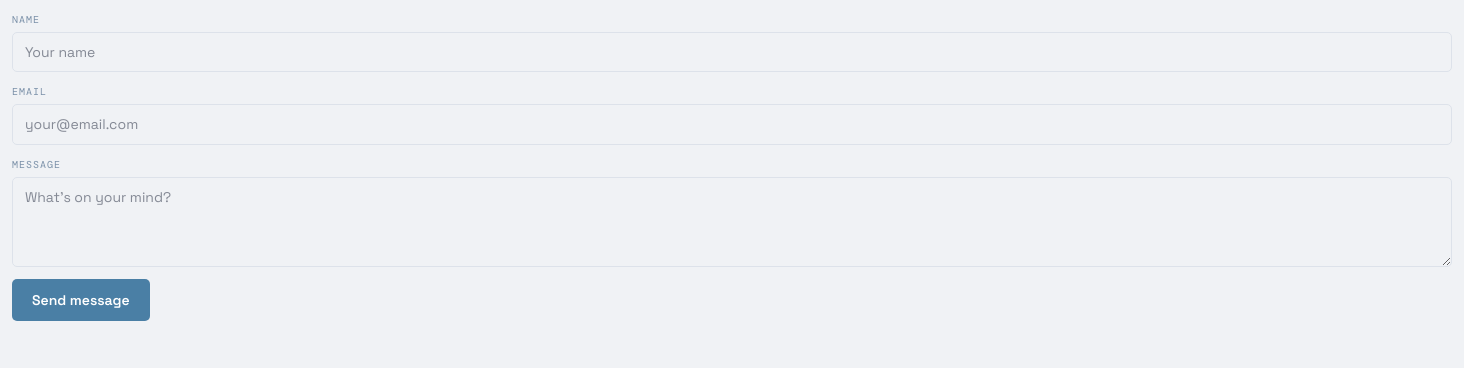
Test case: ContactForm › form submission › shows an error message when the network request fails
In the field labelled "Name": (732, 52) x1=12 y1=32 x2=1452 y2=72, type "Andrew"
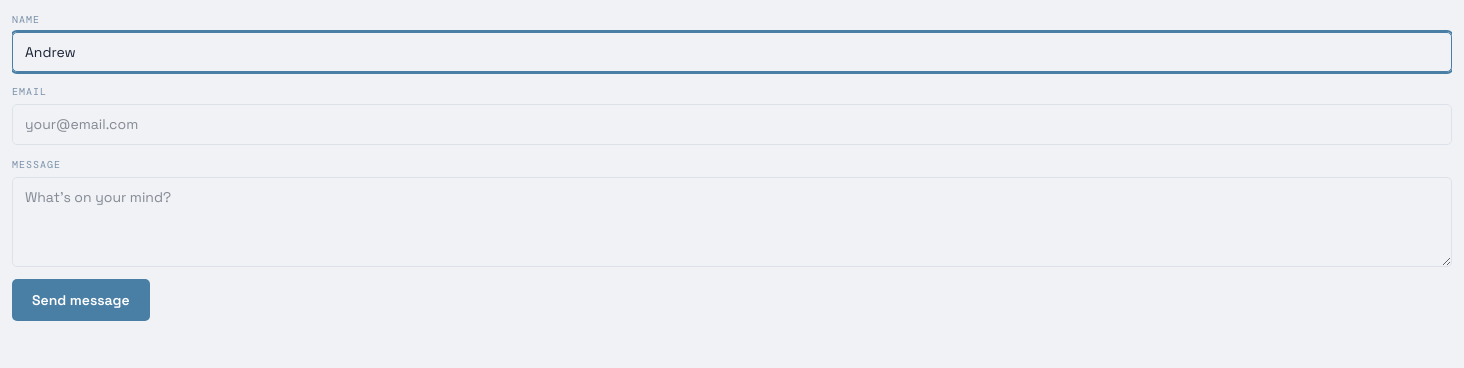
In the field labelled "Email": (732, 125) x1=12 y1=104 x2=1452 y2=145, type "andrew@example.org"
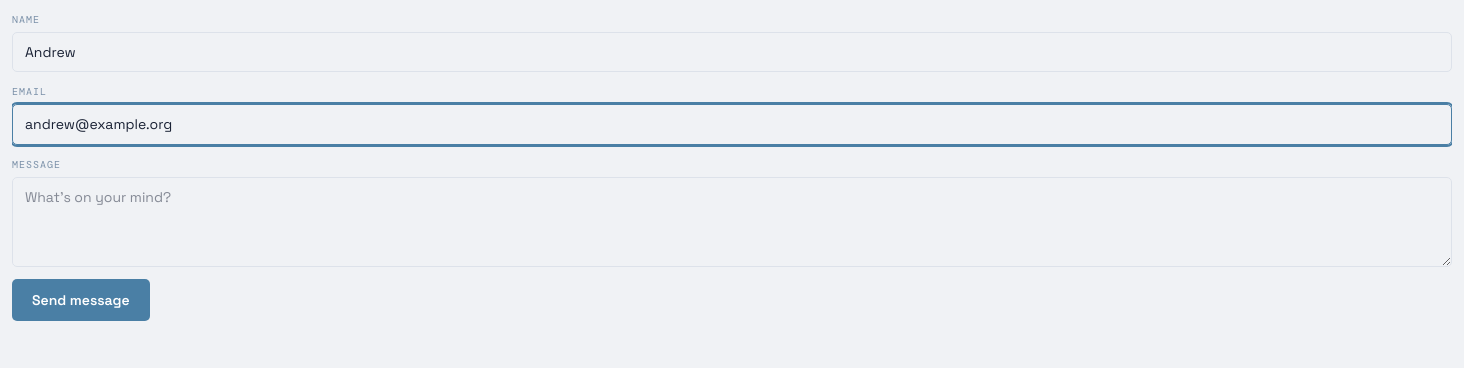
In the text box labelled "Message": (732, 222) x1=12 y1=177 x2=1452 y2=267, type "Hello this is a test message"
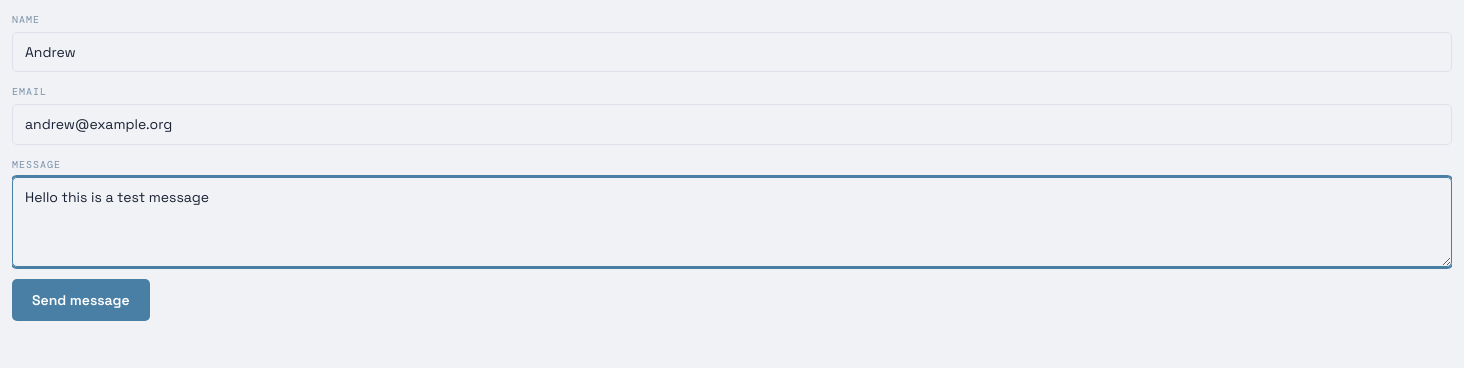
Click the button "Send message": (81, 300) x1=12 y1=279 x2=150 y2=321
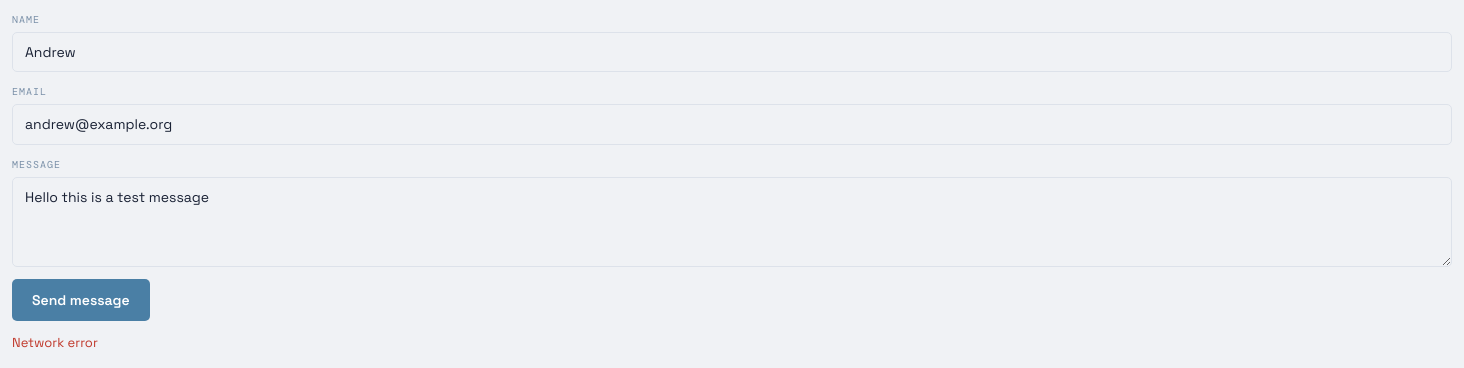
Now the text "Network error" is shown, box x1=12 y1=334 x2=98 y2=351
